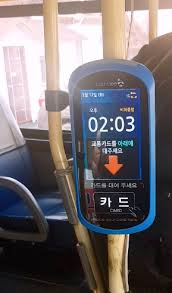terminal: (67, 57, 158, 238)
